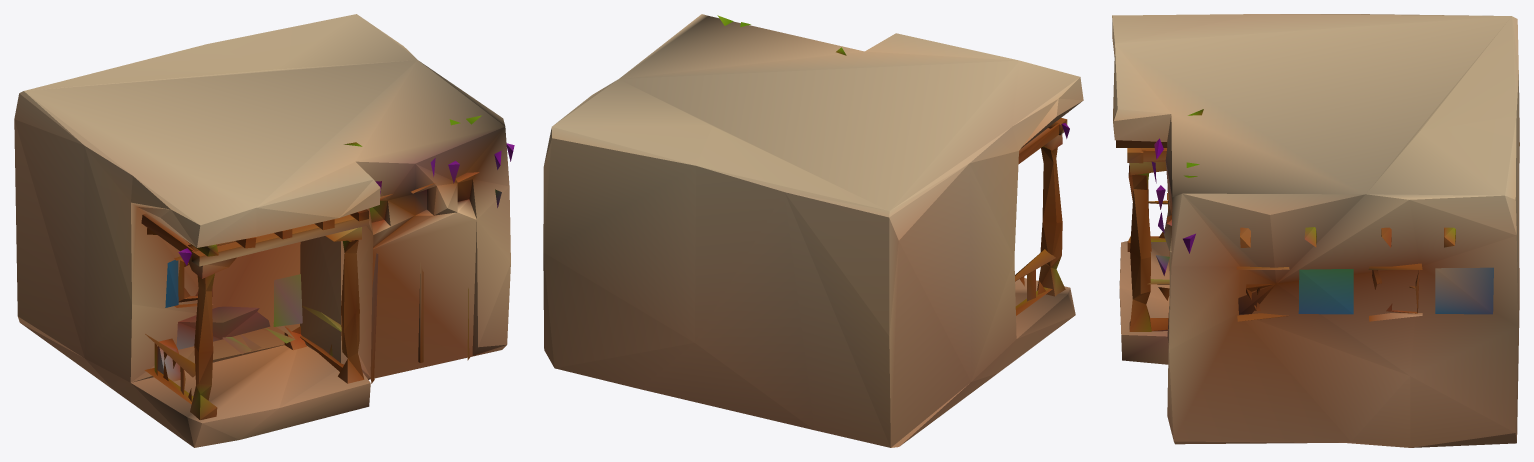
Rendered from mahalla_lo.glb.
3 views of the same model, side by side, from view 1: azimuth 30°, elevation 25°; view 2: azimuth 150°, elevation 25°; view 3: azimuth 270°, elevation 25° (orthographic). The views are drawn at different scales.
Parts seen in each view (by area): view 1: geometry_0; view 2: geometry_0; view 3: geometry_0.
Boxes of the visible parts, x1=… form: geometry_0: x1=14, y1=14, x2=514, y2=447; geometry_0: x1=543, y1=14, x2=1083, y2=447; geometry_0: x1=1112, y1=14, x2=1519, y2=447.
Bounding box in the file's own units: 0.9487 × 0.5874 × 0.833.
